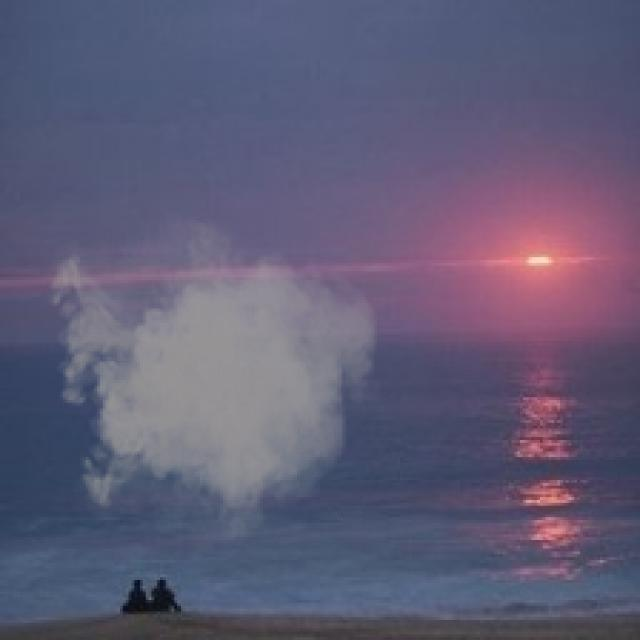smoke: (40, 203, 383, 560)
